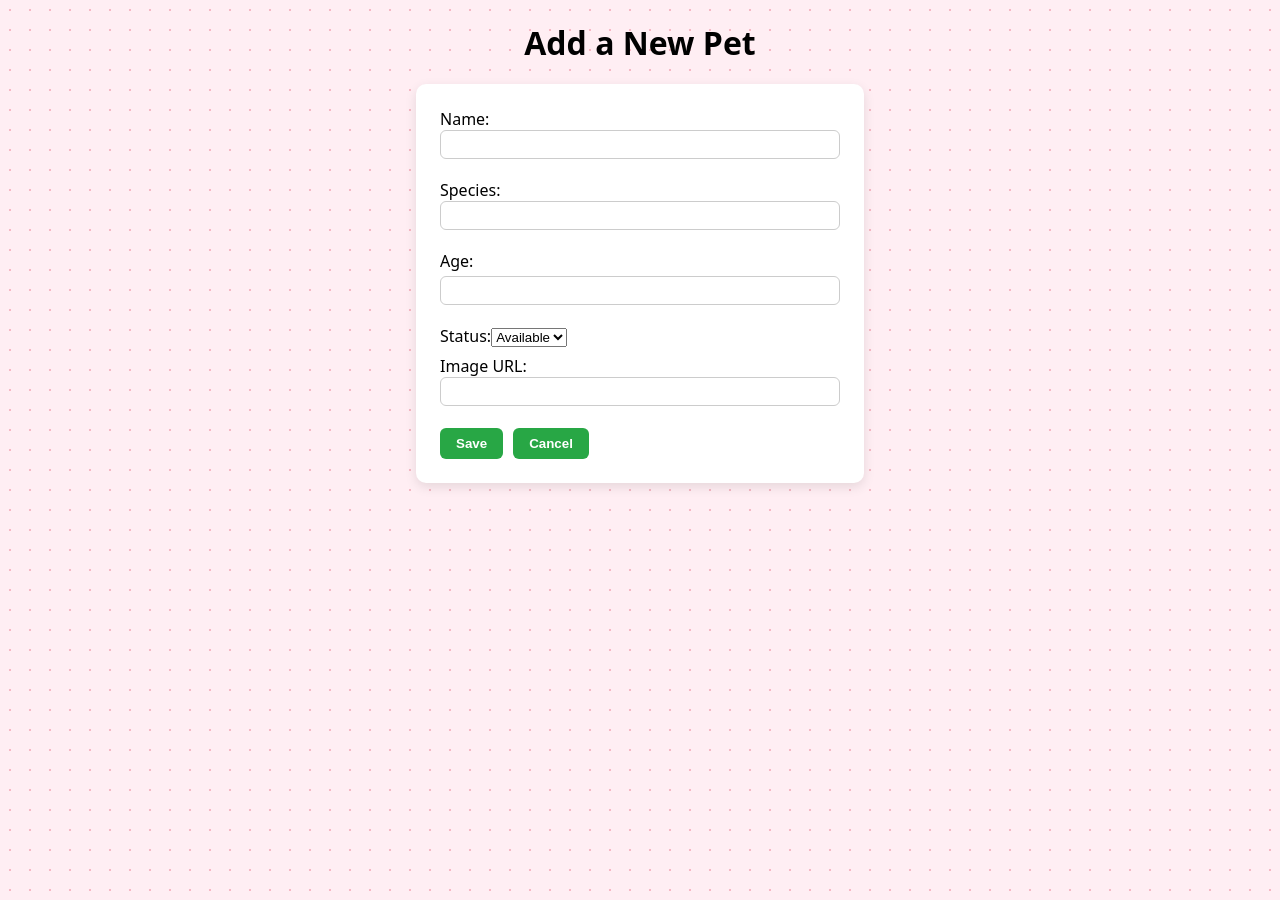
AddEditPet Component › shows error when species is not Dog or Cat
This screenshot has width=1280, height=900.
Type "Rex" into the field labelled "Name:" at [640, 145], box [440,130,840,159]
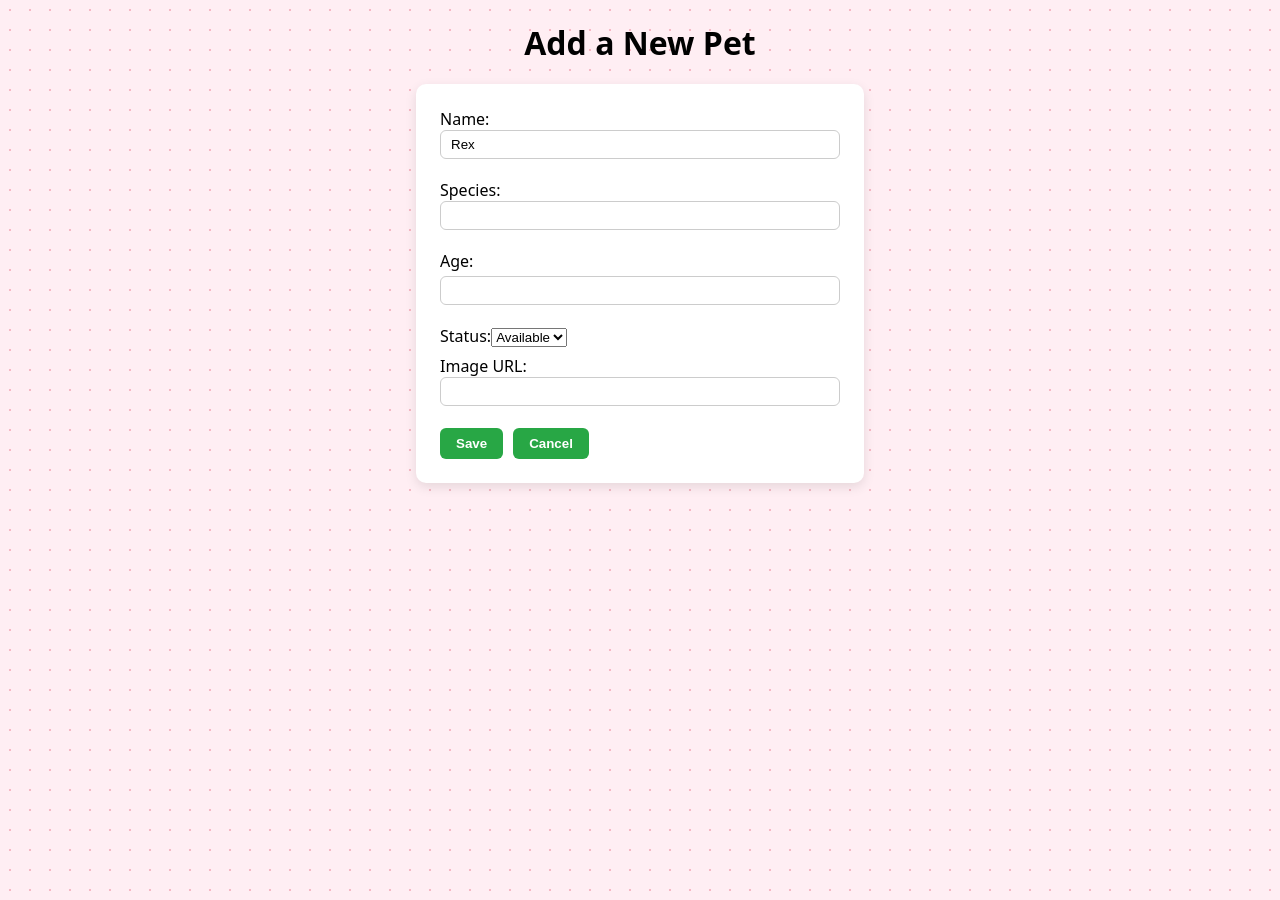
Type "Tiger" into the field labelled "Species:" at [640, 216], box [440,201,840,230]
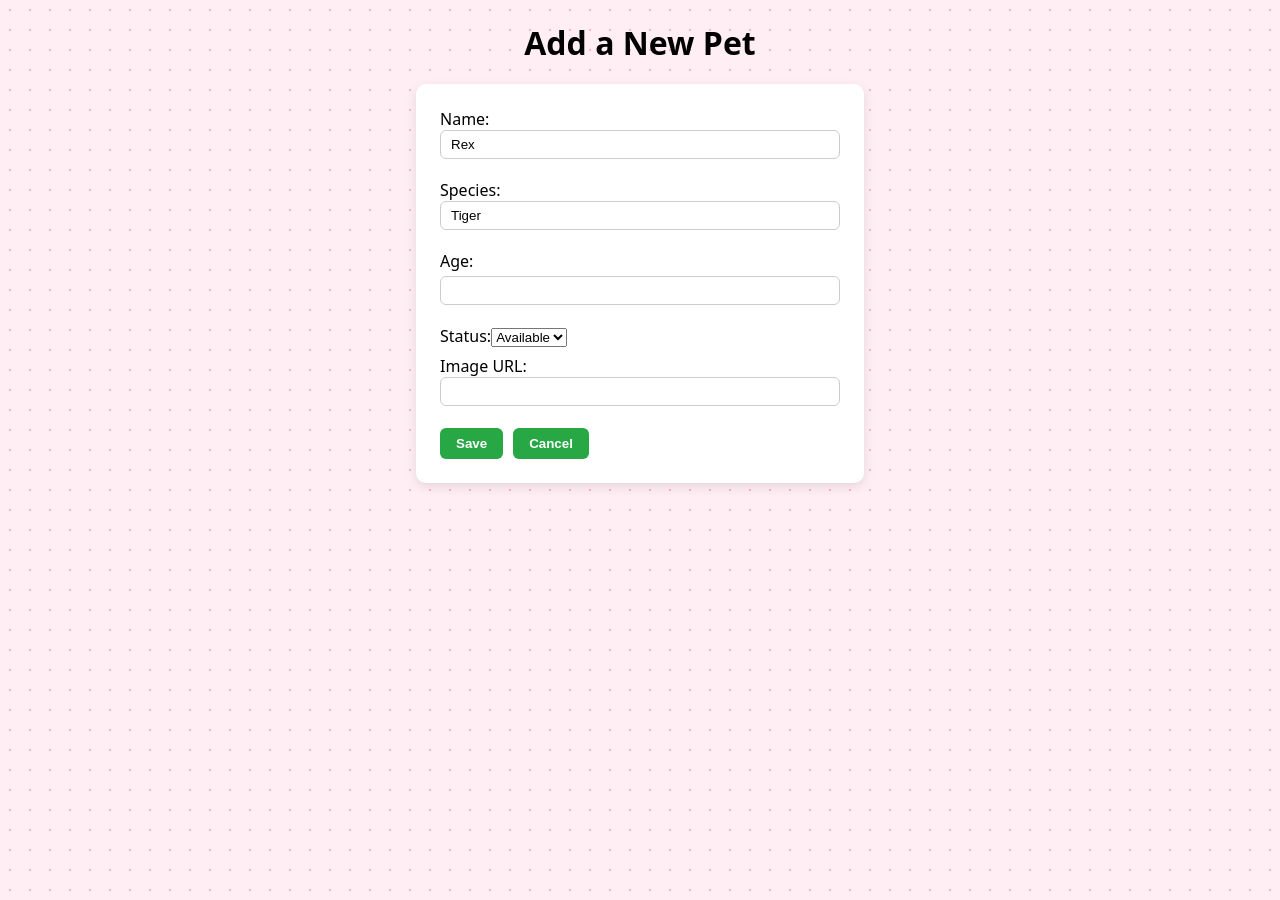
Type "5" into the number field labelled "Age:" at [640, 291], box [440,276,840,305]
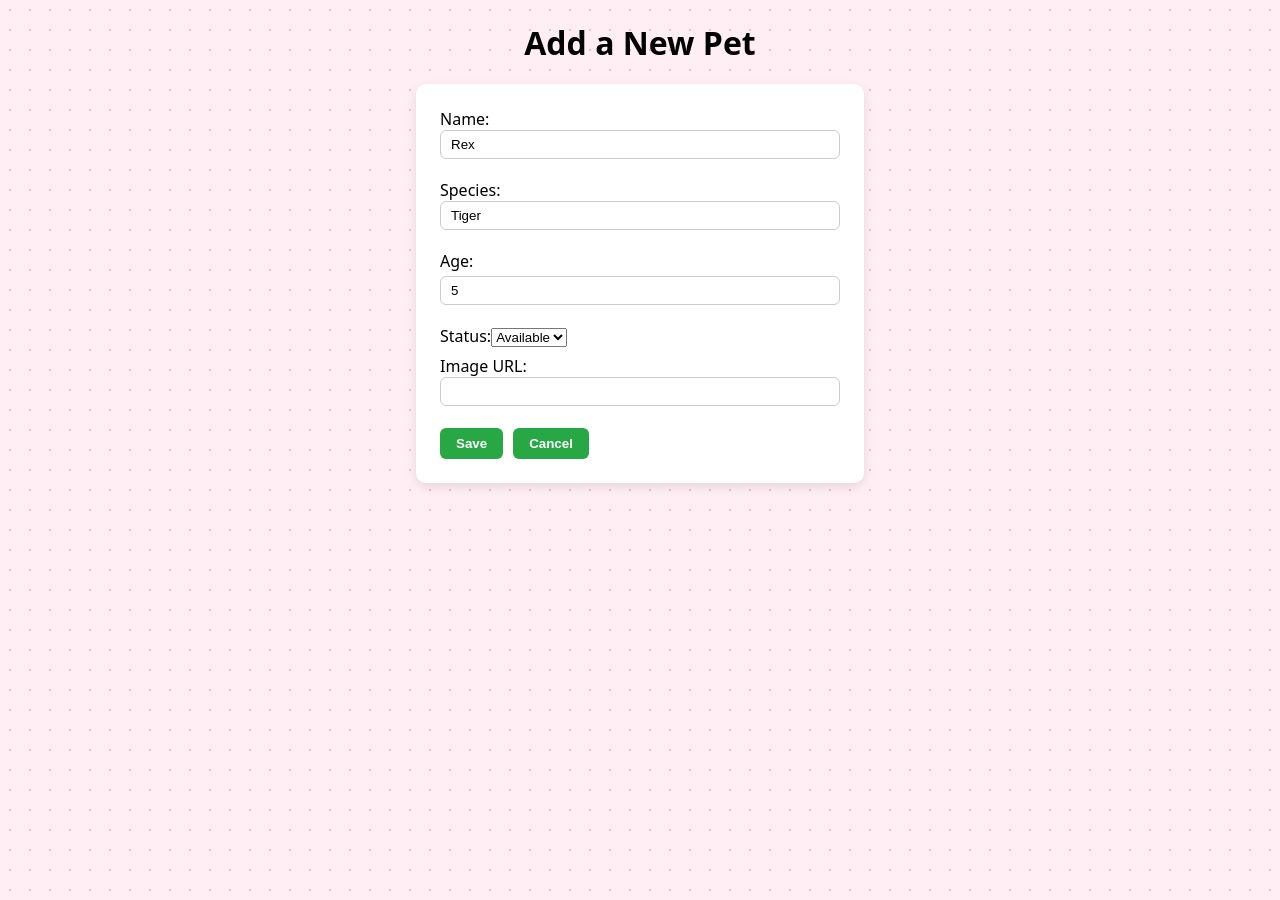
Select "Available" in the dropdown labelled "Status:" at [529, 338], box [491,328,567,347]
Type "https://example.com/rex.jpg" into the field labelled "Image URL:" at [640, 392], box [440,377,840,406]
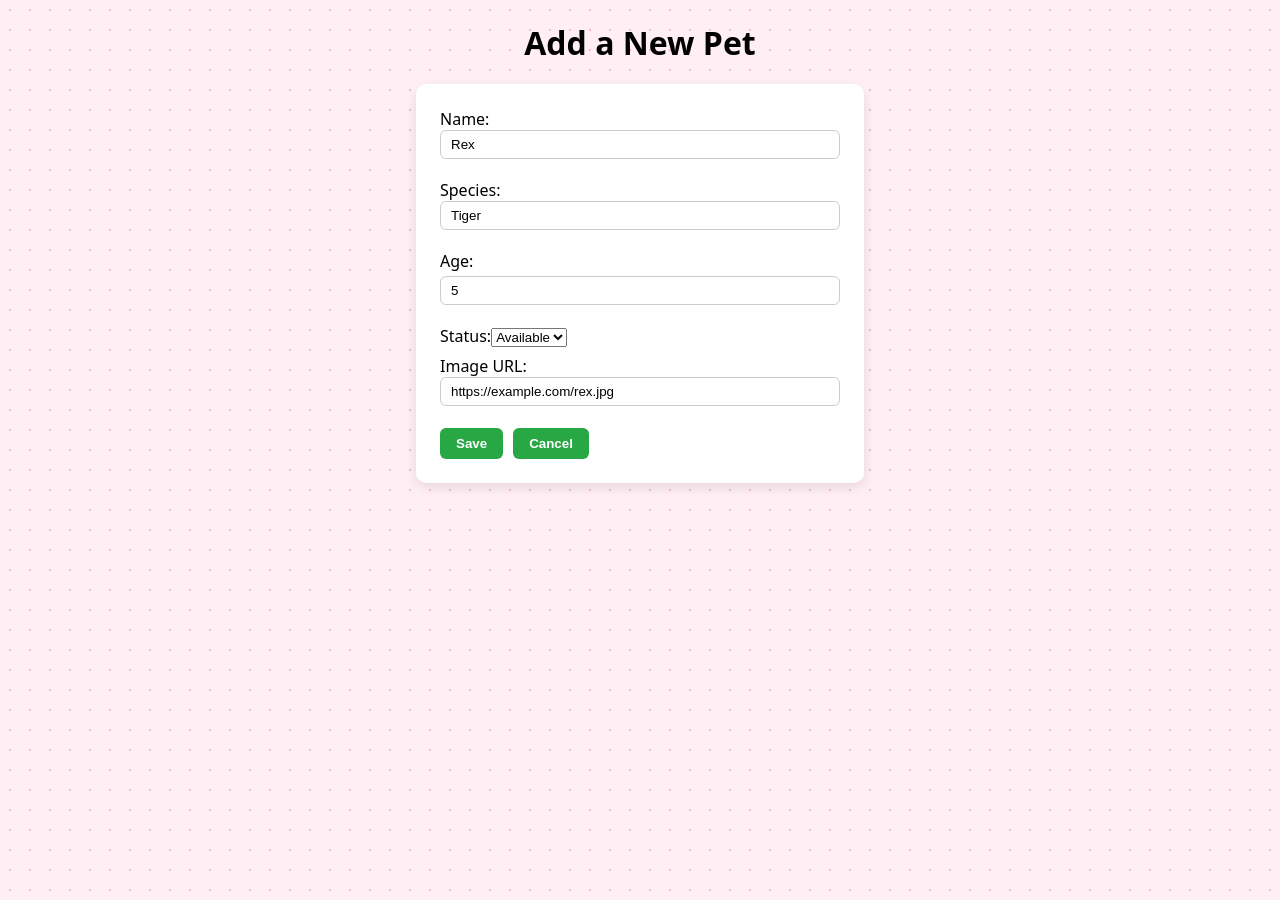
Click the button "Save" at [472, 444], box [440,428,503,459]
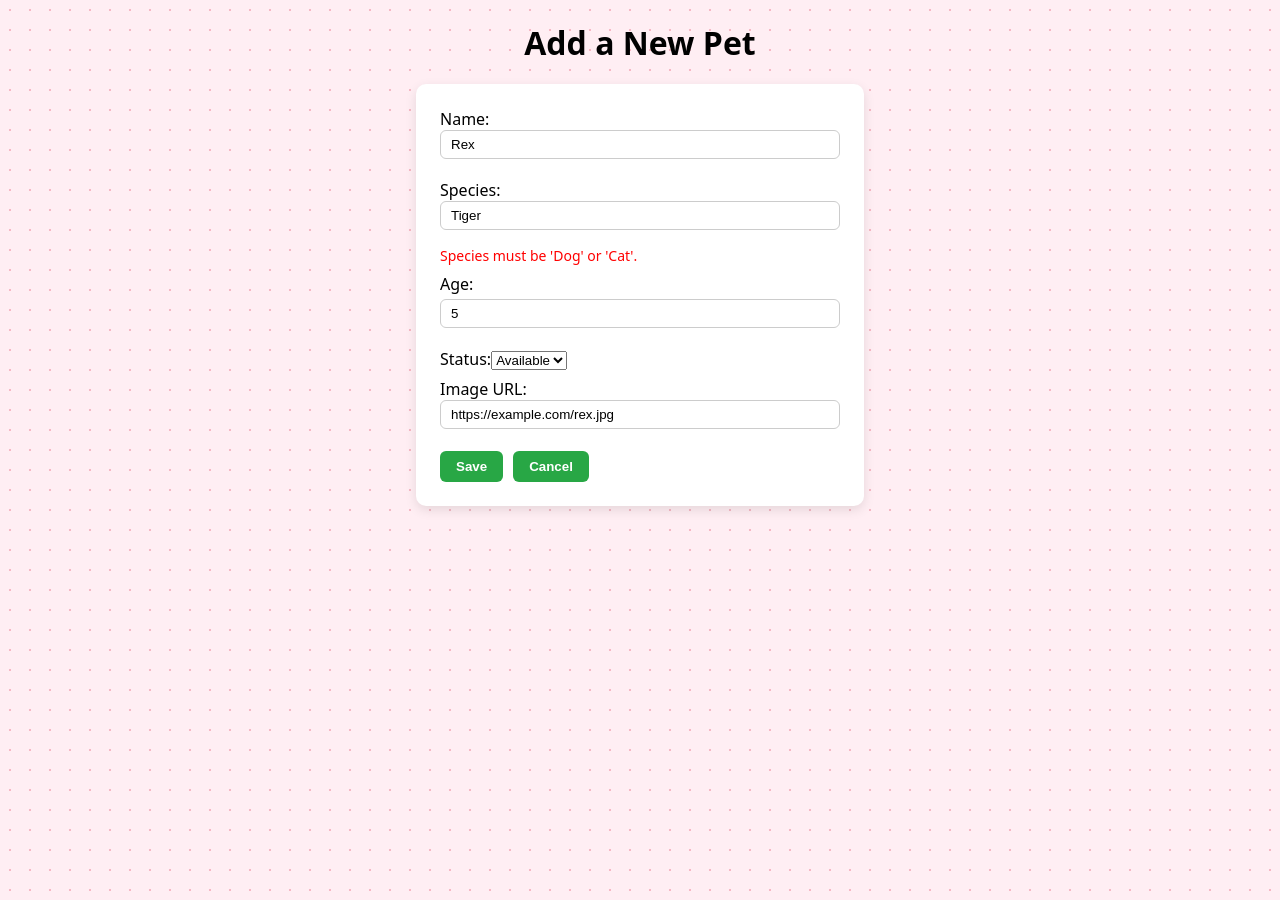
Result: the text "Species must be 'Dog' or 'Cat'." is shown at [440,246,637,265]
